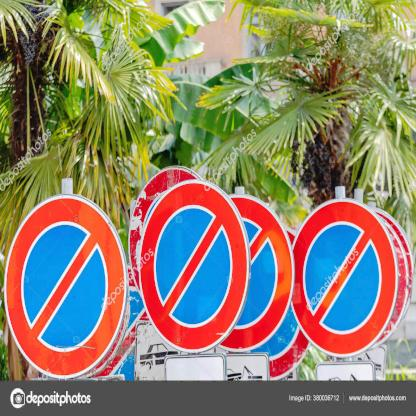No parking: (0, 196, 120, 373), (284, 200, 394, 351), (139, 187, 242, 344)
